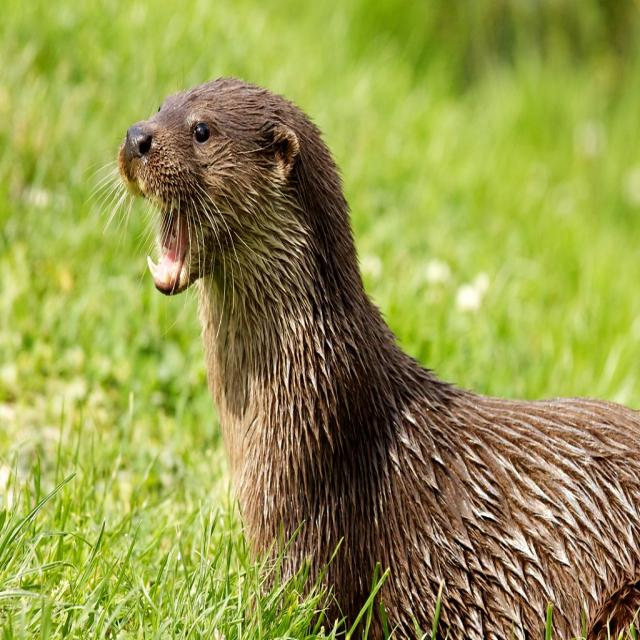otter: (118, 78, 640, 640)
